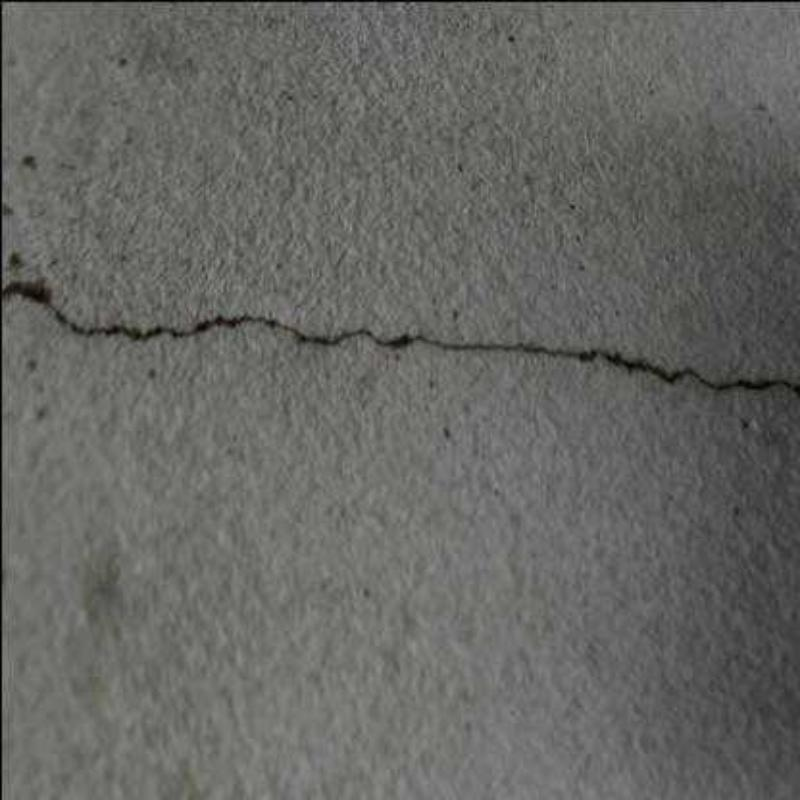pothole: (0, 284, 800, 399)
